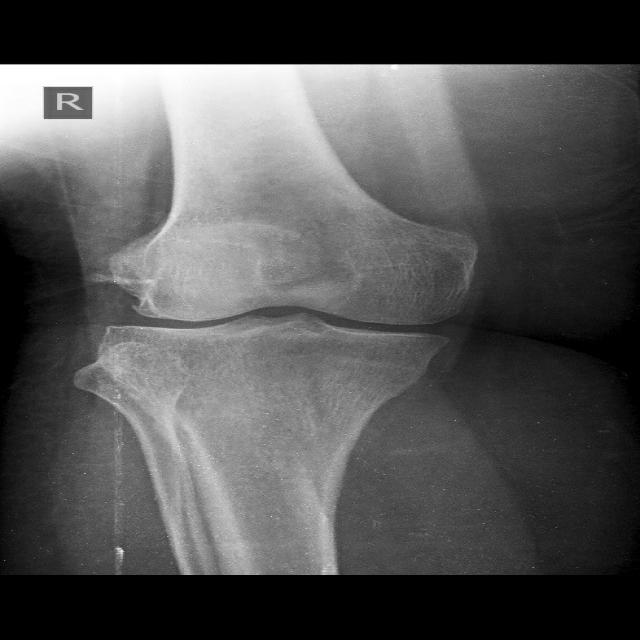osteo: (86, 225, 470, 380)
